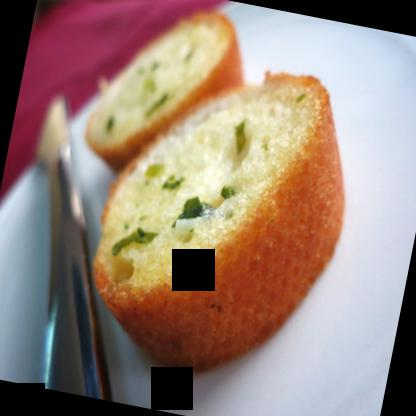toast bread: (77, 39, 367, 394), (78, 0, 252, 190)
